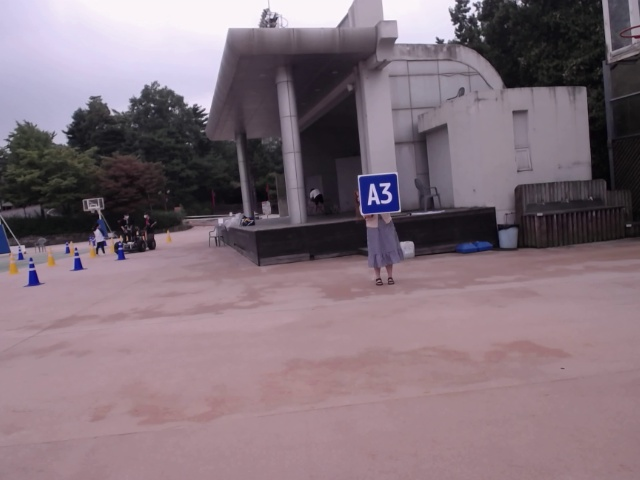delivery_a3: (358, 173, 401, 214)
